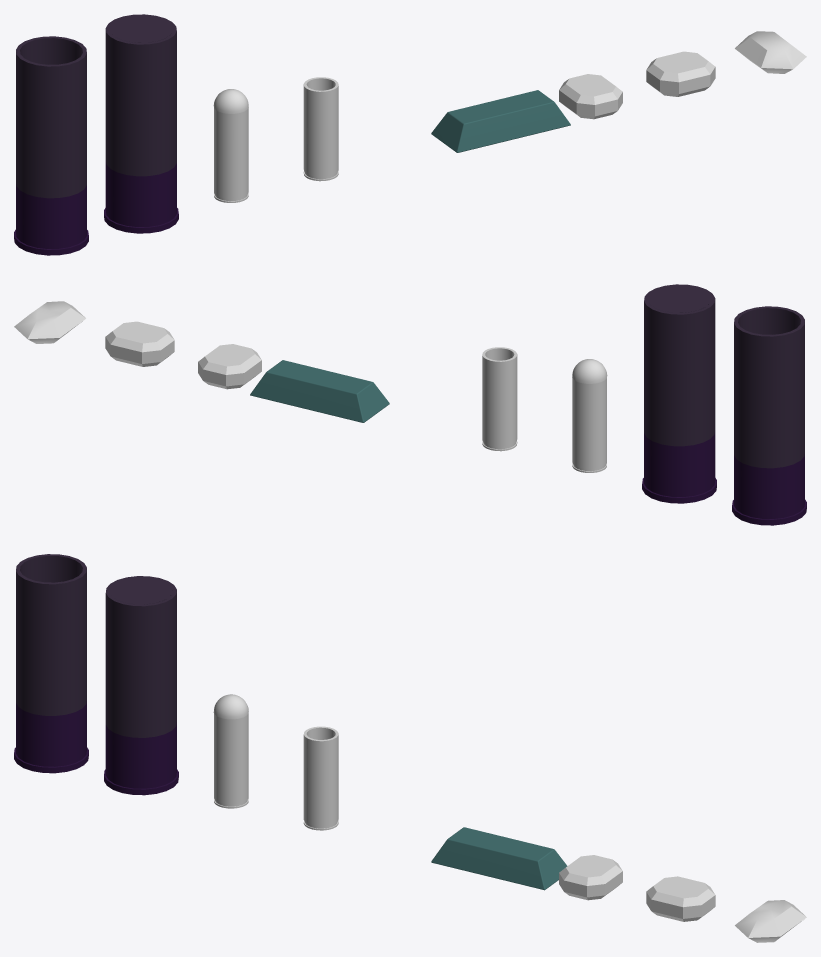
The model's file is Bullets_And_Jewels.fbx.
3 views of the same model, one above another, from view 1: azimuth 30°, elevation 25°; view 2: azimuth 150°, elevation 25°; view 3: azimuth 330°, elevation 25° (orthographic).
Parts seen in each view (by area): view 1: polySurface3, polySurface1, polySurface11, polySurface6, polySurface9, polySurface15, polySurface13, polySurface16; view 2: polySurface3, polySurface1, polySurface11, polySurface6, polySurface9, polySurface15, polySurface13, polySurface16; view 3: polySurface3, polySurface1, polySurface11, polySurface6, polySurface9, polySurface15, polySurface13, polySurface16.
Part boxes in pixels (x1=…): polySurface3: x1=104, y1=14, x2=178, y2=233; polySurface1: x1=14, y1=36, x2=88, y2=255; polySurface11: x1=431, y1=90, x2=570, y2=152; polySurface6: x1=213, y1=89, x2=248, y2=202; polySurface9: x1=303, y1=77, x2=338, y2=181; polySurface15: x1=646, y1=51, x2=715, y2=96; polySurface13: x1=559, y1=74, x2=622, y2=119; polySurface16: x1=735, y1=31, x2=806, y2=73; polySurface3: x1=642, y1=284, x2=716, y2=503; polySurface1: x1=732, y1=306, x2=806, y2=525; polySurface11: x1=250, y1=360, x2=389, y2=422; polySurface6: x1=572, y1=359, x2=607, y2=472; polySurface9: x1=482, y1=347, x2=517, y2=451; polySurface15: x1=105, y1=321, x2=174, y2=366; polySurface13: x1=198, y1=344, x2=261, y2=389; polySurface16: x1=14, y1=301, x2=85, y2=343; polySurface3: x1=104, y1=576, x2=178, y2=795; polySurface1: x1=14, y1=554, x2=88, y2=773; polySurface11: x1=431, y1=827, x2=567, y2=890; polySurface6: x1=213, y1=694, x2=248, y2=808; polySurface9: x1=303, y1=726, x2=338, y2=830; polySurface15: x1=646, y1=876, x2=715, y2=921; polySurface13: x1=559, y1=855, x2=622, y2=900; polySurface16: x1=735, y1=900, x2=806, y2=942.
Size of the model in its own units: 431 by 100 by 43.74.
